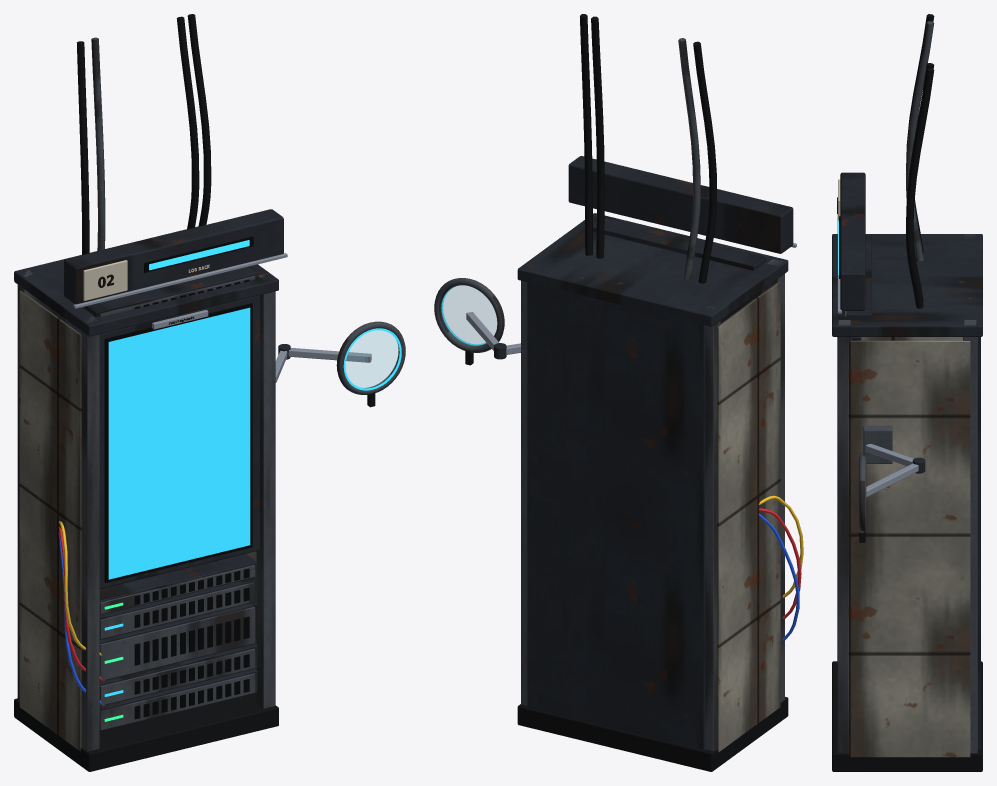
The model's file is ch1-station-2.glb.
3 renders of one model, left to right at view 1: azimuth 30°, elevation 25°; view 2: azimuth 150°, elevation 25°; view 3: azimuth 270°, elevation 25°, orthographic. The views are drawn at different scales.
Parts seen in each view (by area): view 1: screen, side_skin, header_plate, rack_base, post.001, post.003, rack_top, scr_bezel, unit_face.002, scr_well, unit.004, lens_glass (+19 smaller); view 2: rack_back, side_skin, rack_top, header_plate, post, rack_base, post.002, unit.005, lens_glass, post.001, rack_cable_1, rack_cable_0 (+3 smaller); view 3: side_skin.001, rack_top, post.003, header_plate, post.002, rack_base, rack_cable_3, rack_back, rack_cable_1, lens_mount, unit.005, lens_ring (+5 smaller).
Part boxes in pixels (box(x1,y1,x2,y2)): screen: box(108, 307, 250, 579); side_skin: box(19, 290, 81, 751); header_plate: box(64, 209, 283, 304); rack_base: box(14, 693, 278, 771); post.001: box(80, 316, 99, 751); post.003: box(256, 273, 275, 708); rack_top: box(14, 226, 278, 336); scr_bezel: box(99, 295, 259, 589); unit_face.002: box(100, 607, 255, 680); scr_well: box(104, 303, 252, 582); unit.004: box(99, 553, 257, 614); lens_glass: box(346, 330, 398, 387); rack_back: box(527, 282, 705, 750); side_skin: box(717, 281, 780, 752); rack_top: box(517, 213, 788, 326); header_plate: box(568, 156, 793, 253); post: box(705, 306, 720, 751); rack_base: box(517, 697, 788, 771); post.002: box(521, 280, 527, 705); unit.005: box(593, 218, 766, 270); lens_glass: box(441, 285, 496, 345); post.001: box(767, 259, 784, 701); rack_cable_1: box(678, 38, 700, 279); rack_cable_0: box(693, 41, 716, 283); side_skin.001: box(848, 340, 970, 757); rack_top: box(832, 234, 982, 336); post.003: box(837, 320, 851, 753); header_plate: box(840, 172, 865, 310); post.002: box(963, 320, 977, 753); rack_base: box(832, 661, 982, 771); rack_cable_3: box(906, 68, 934, 308); rack_back: box(977, 337, 980, 749); rack_cable_1: box(906, 21, 934, 261); lens_mount: box(863, 425, 892, 463); unit.005: box(846, 236, 871, 318); lens_ring: box(858, 455, 866, 533).
Bounding box in the file's own units: 1.93 × 3.6 × 0.72.
17 materials, 3 textured.
